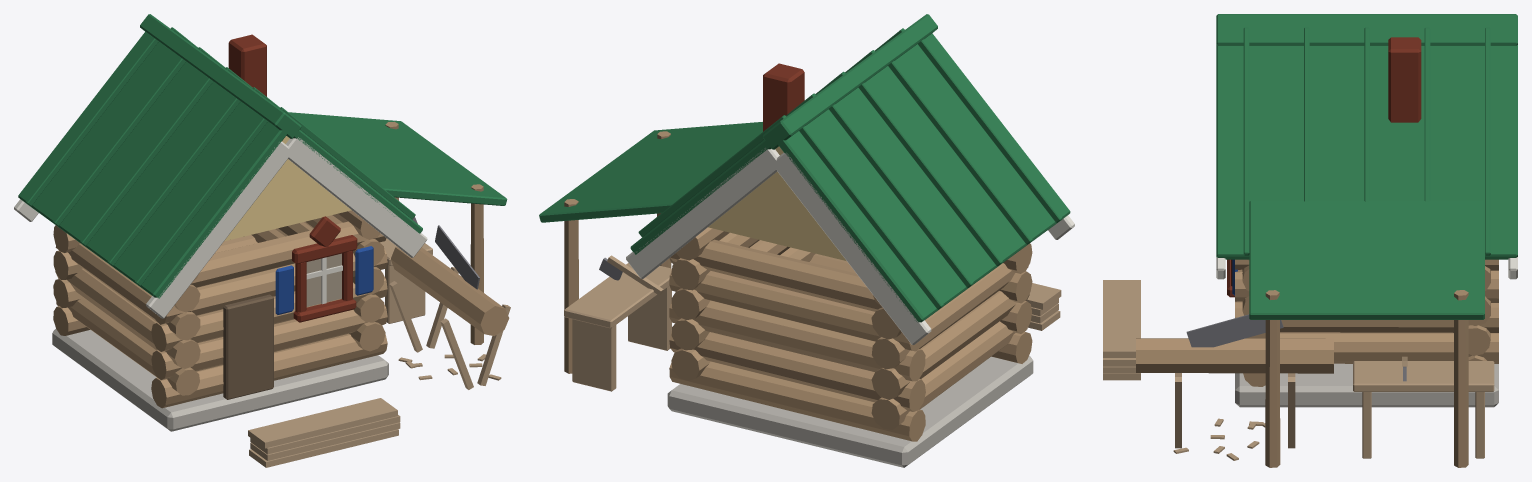
Rendered from bld_izba_plotnika_e2.glb.
3 views of the same model, side by side, from view 1: azimuth 30°, elevation 25°; view 2: azimuth 150°, elevation 25°; view 3: azimuth 270°, elevation 25° (orthographic). The views are drawn at different scales.
Visible parts, largest first — view 1: izba_plotnika; view 2: izba_plotnika; view 3: izba_plotnika.
Part boxes in pixels (left/top/right/bottom): izba_plotnika: left=14, top=14, right=510, bottom=467; izba_plotnika: left=539, top=14, right=1074, bottom=467; izba_plotnika: left=1103, top=14, right=1517, bottom=467.
Size of the model in its own units: 1.01 by 0.7858 by 0.88.
